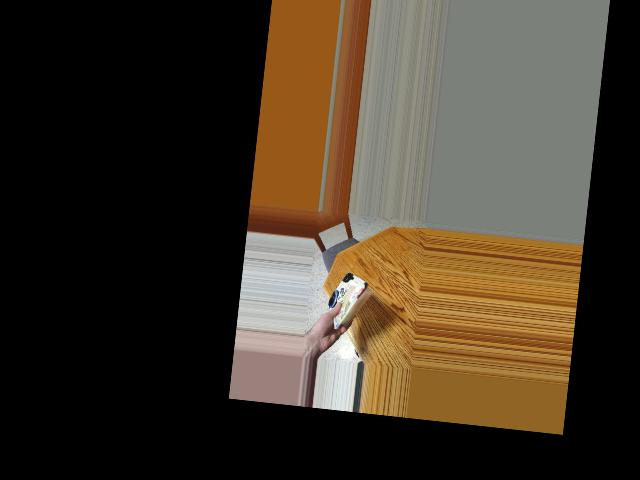cheese: (319, 272, 378, 324)
